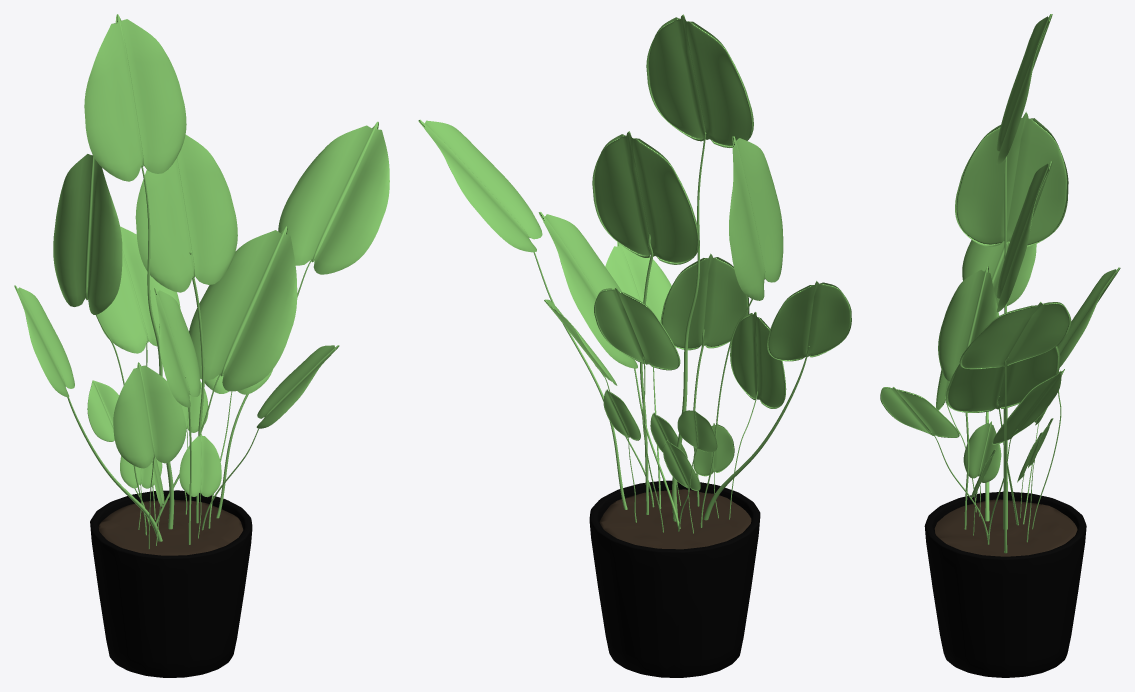
File: new plant done.fbx
3 renders of one model, left to right at view 1: azimuth 30°, elevation 25°; view 2: azimuth 150°, elevation 25°; view 3: azimuth 270°, elevation 25°, orthographic. The views are drawn at different scales.
Visible parts, largest first — view 1: polySurface35; view 2: polySurface35; view 3: polySurface35.
Part boxes in pixels (<box>): polySurface35: <box>14,14,389,677</box>; polySurface35: <box>418,14,851,677</box>; polySurface35: <box>880,14,1120,677</box>.
Bounding box in the file's own units: 2.05 × 3.25 × 1.14.
